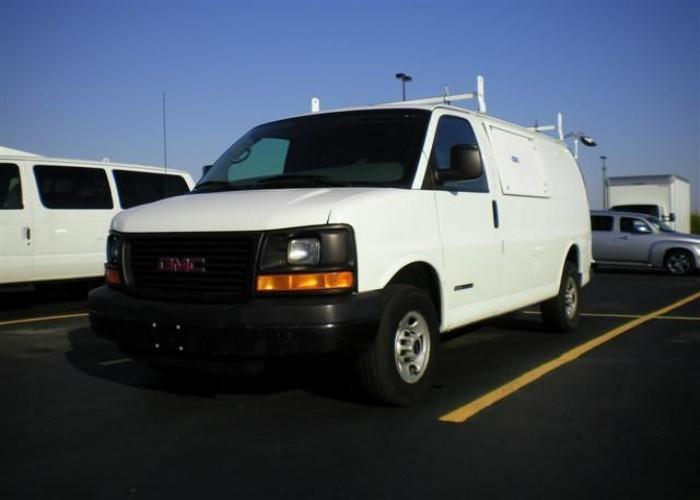GMC: (151, 245, 225, 280)
